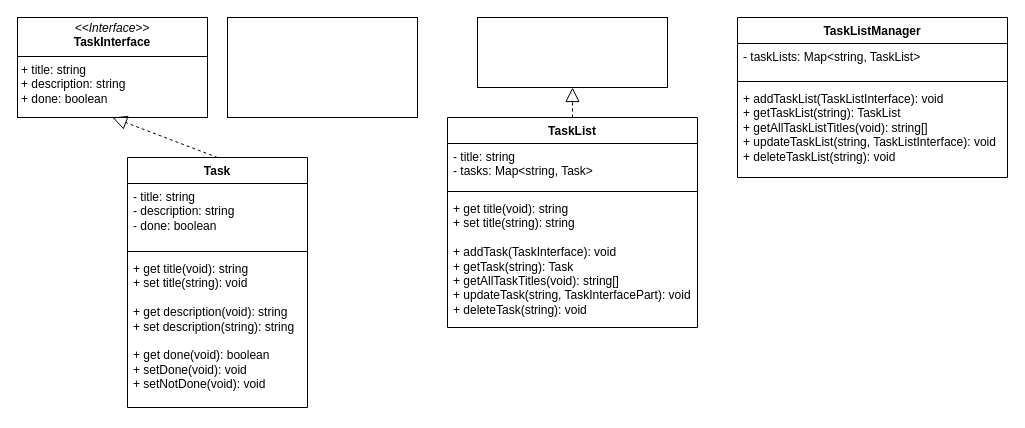
The diagram is 1025 pixels wide and 428 high, and some of its shapes have lost their labels. The centre of each missing label's shape, as x and y in pixels:
<<Interface>> TaskInterfacePart Partial<TaskInterface>: (322,67)
<<Interface>> TaskListInterface + title: string: (572,52)
